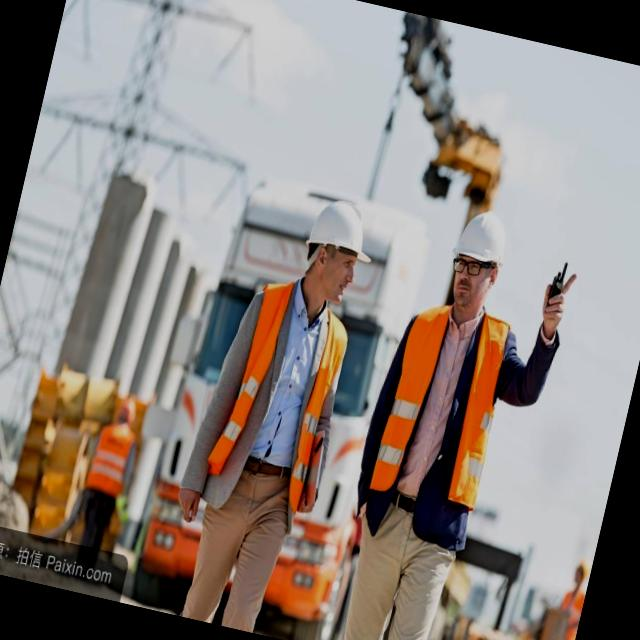helmet: (308, 192, 379, 264), (450, 208, 514, 270)
vest: (364, 296, 520, 538), (206, 274, 357, 512)
